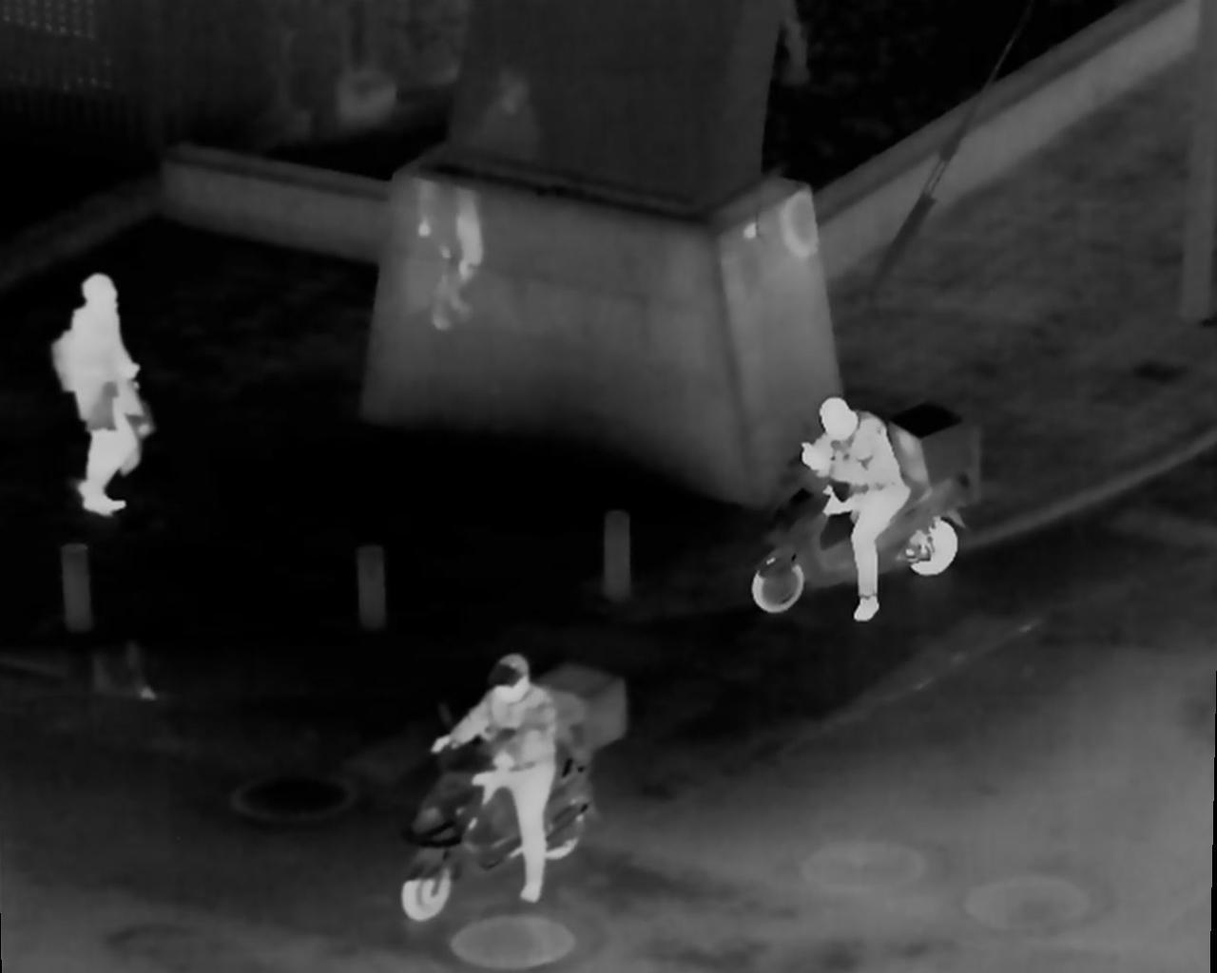person: (457, 655, 569, 899), (794, 396, 906, 636), (68, 277, 141, 518)
